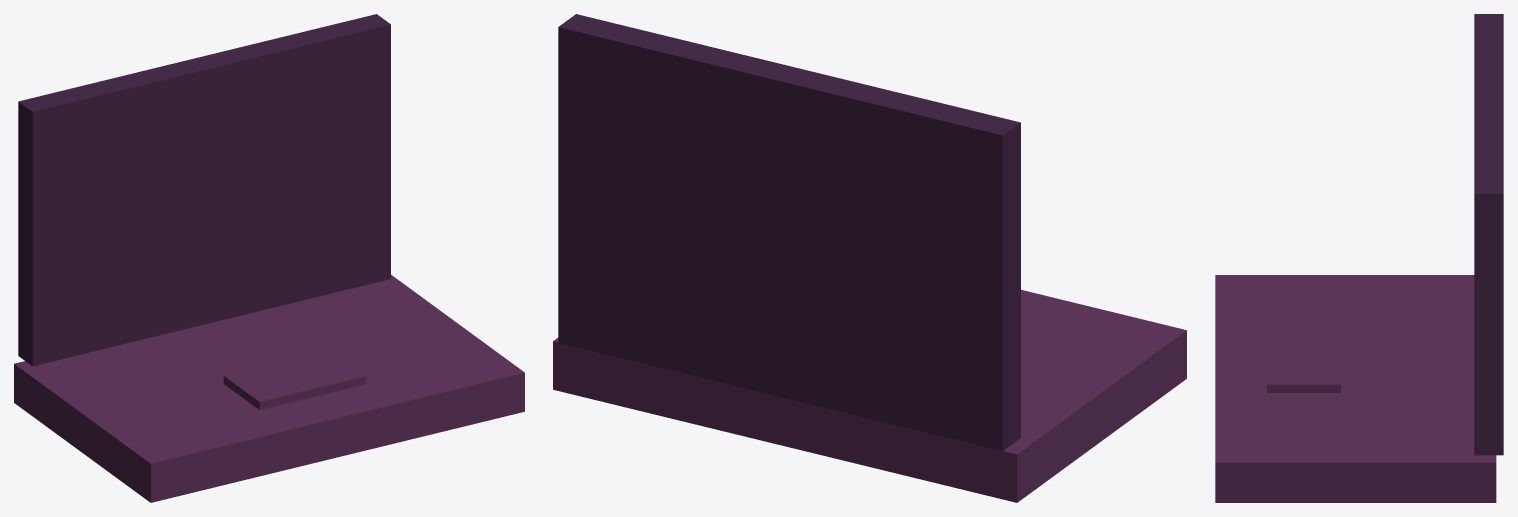
Rendered from laptop-bag.obj.
3 renders of one model, left to right at view 1: azimuth 30°, elevation 25°; view 2: azimuth 150°, elevation 25°; view 3: azimuth 270°, elevation 25°, orthographic. The views are drawn at different scales.
Visible parts, largest first — view 1: open-screen, laptop-base, trackpad; view 2: open-screen, laptop-base; view 3: laptop-base, open-screen, trackpad.
Boxes of the visible parts, x1=… form: open-screen: x1=18, y1=14, x2=390, y2=366; laptop-base: x1=14, y1=275, x2=524, y2=502; trackpad: x1=223, y1=350, x2=365, y2=409; open-screen: x1=558, y1=14, x2=1020, y2=450; laptop-base: x1=553, y1=290, x2=1186, y2=502; laptop-base: x1=1215, y1=275, x2=1496, y2=502; open-screen: x1=1474, y1=14, x2=1503, y2=455; trackpad: x1=1267, y1=331, x2=1340, y2=392.
Size of the model in its own units: 1.2 by 0.91 by 0.78.
